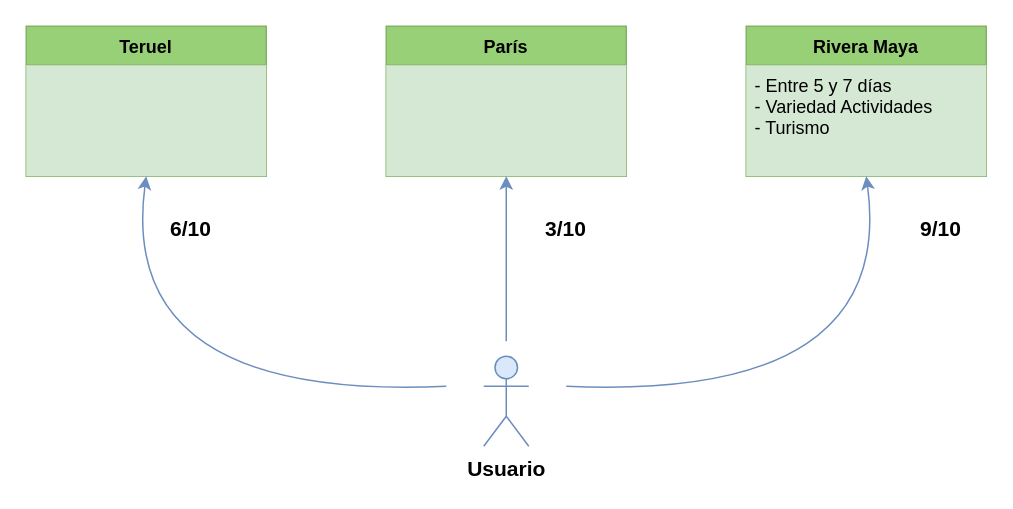
The diagram is 1013 pixels wide and 509 high, and some of its shapes have lost their labels. The shapes that lost their labels are listed below. From the top down, each one's centre as x and y in pixels, then its label:
At [146,120]: "- Menos de 500€ - 3 días - Turismo".
At [506,120]: "- Turismo - Viaje en familia - Entre 5 y 7 días".
